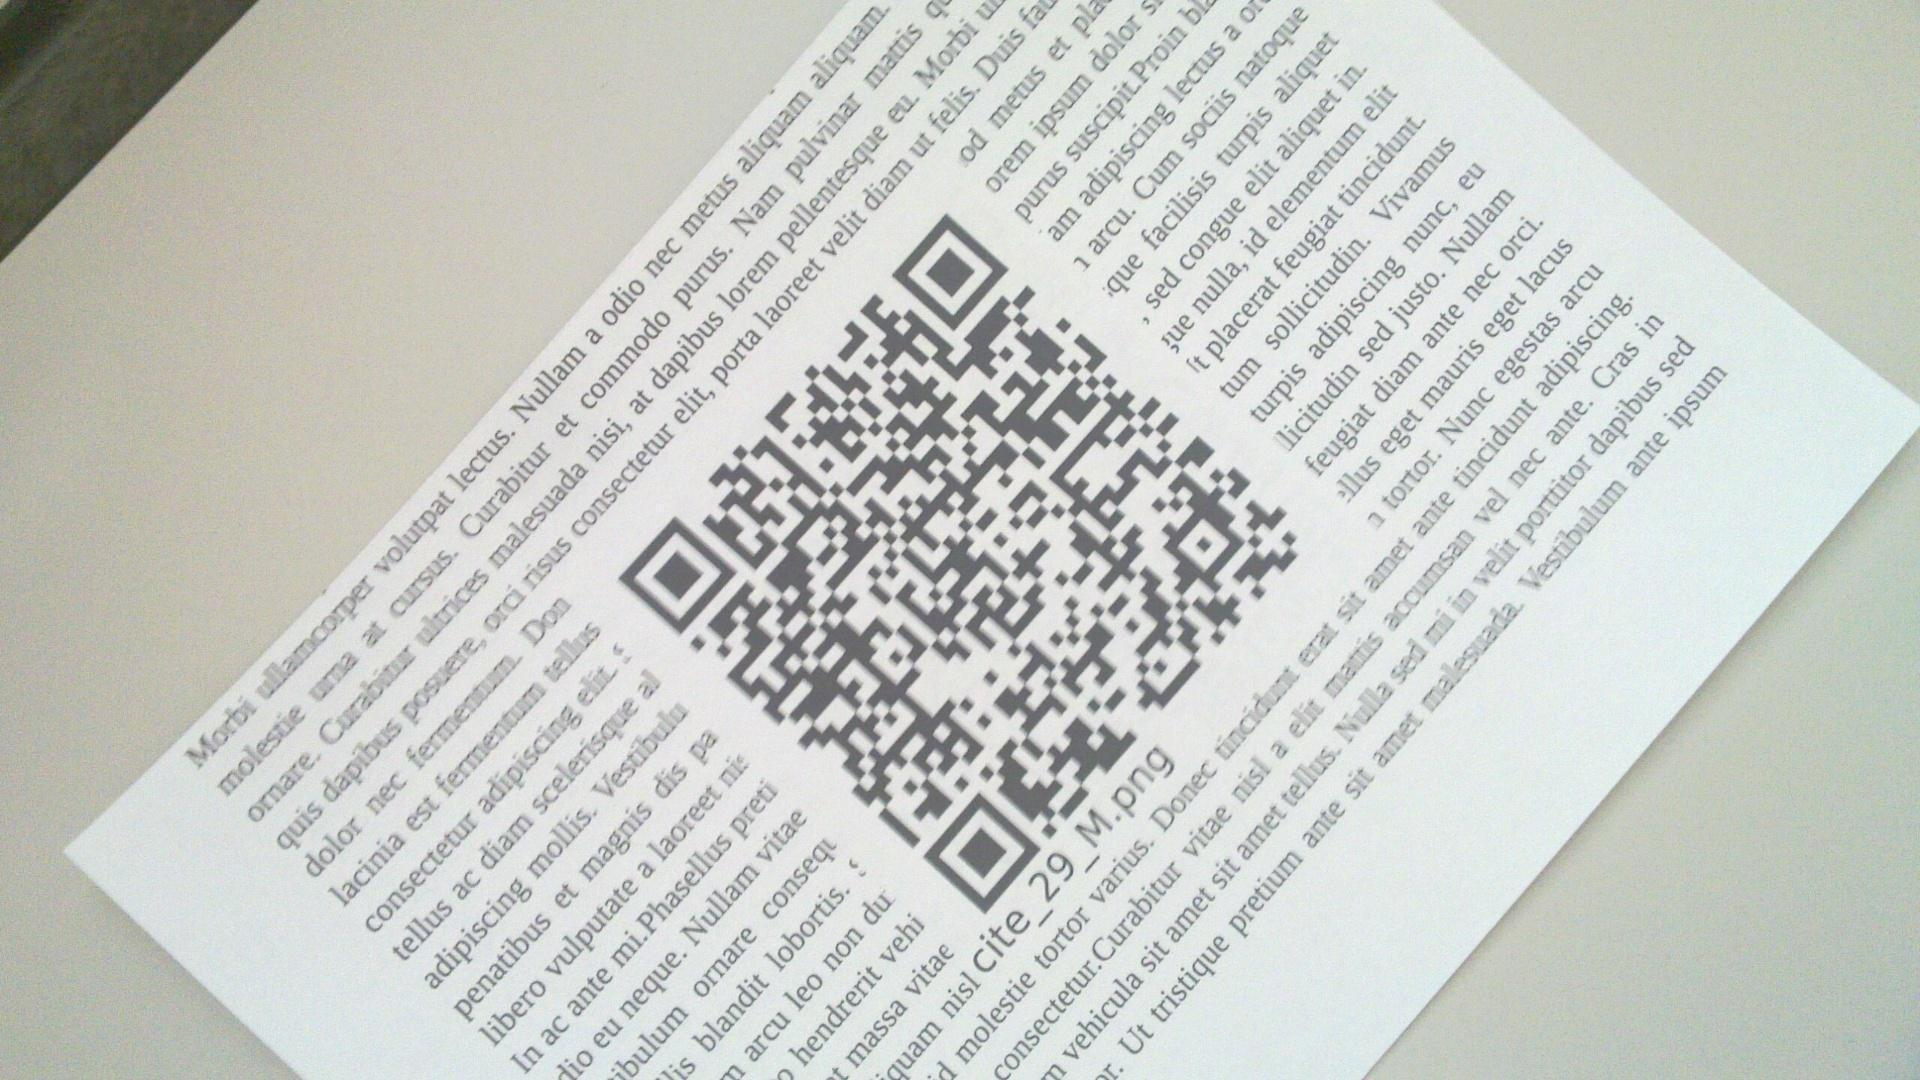qr_code: (616, 215, 1309, 913)
